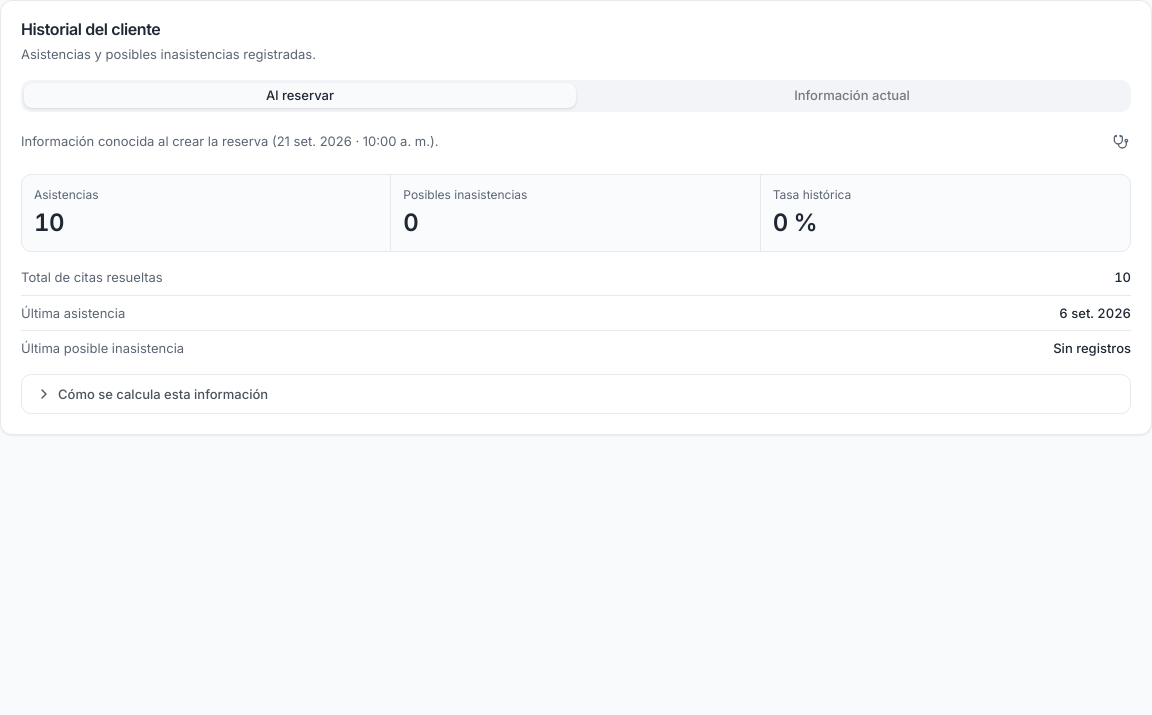
Test: Historial del cliente (HU-06) › desarrollo: el corte temporal técnico se consulta en el diagnóstico
Click the button named "Diagnóstico técnico: Historial del cliente · Al reservar" at (1121, 142), box [1105, 126, 1137, 158]
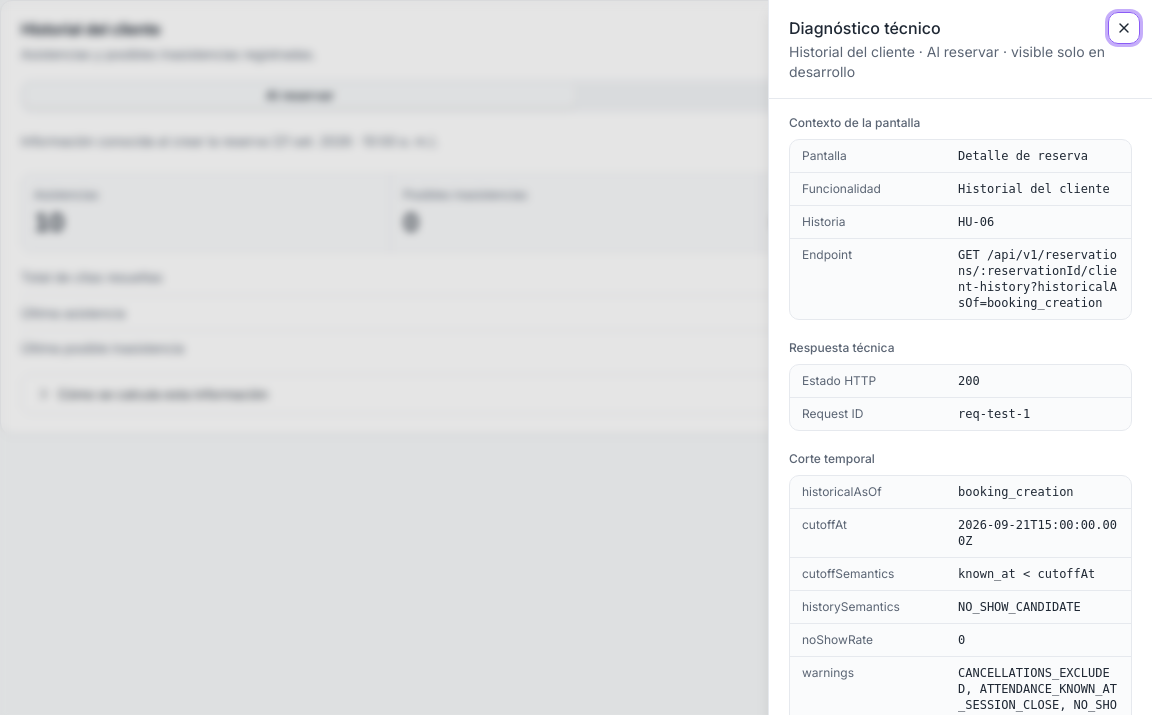
Expected: the text "HU-06" is shown, [958, 215, 994, 229]
Expected: the text "known_at < cutoffAt" is shown, [958, 566, 1119, 582]
